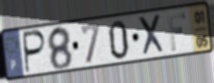0: (107, 19, 131, 61)
7: (80, 21, 102, 65)
8: (45, 25, 75, 72)
F: (166, 11, 187, 53)
P: (22, 29, 48, 76)
X: (136, 13, 167, 58)
